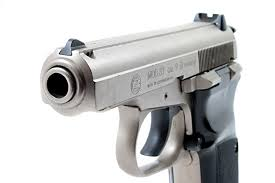gun: (39, 11, 245, 182)
